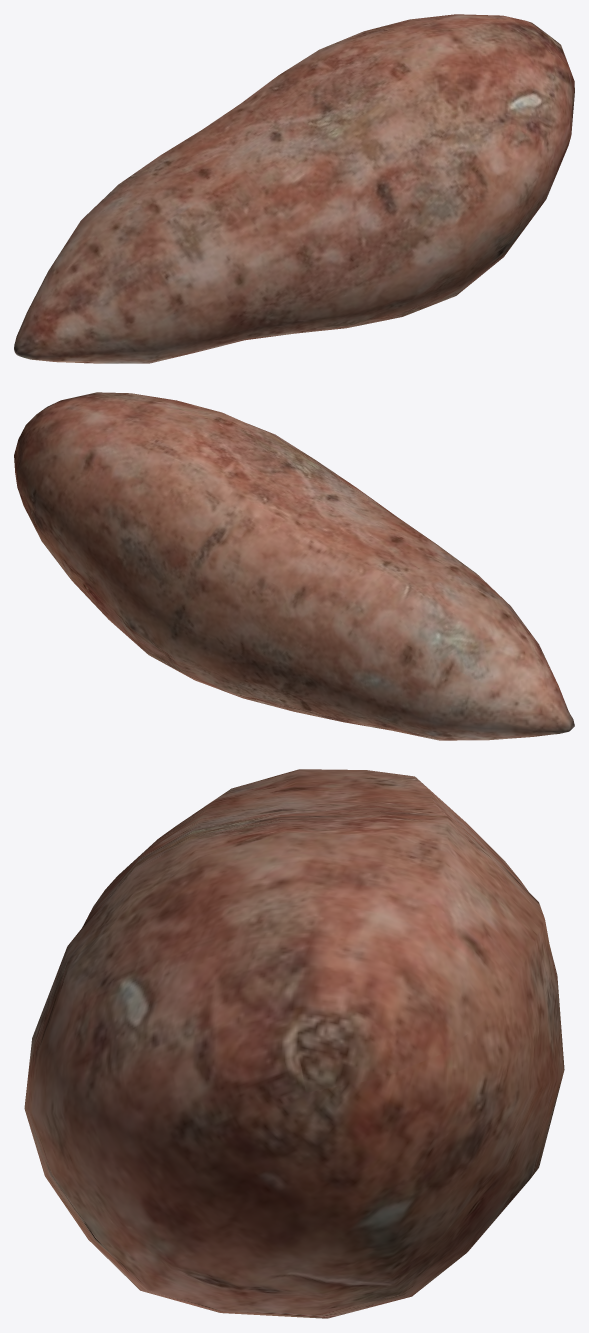
Rendered from A6_Yam_low.fbx.
3 views of the same model, one above another, from view 1: azimuth 30°, elevation 25°; view 2: azimuth 150°, elevation 25°; view 3: azimuth 270°, elevation 25° (orthographic). The views are drawn at different scales.
Visible parts, largest first — view 1: A6_Yam_low; view 2: A6_Yam_low; view 3: A6_Yam_low.
Part boxes in pixels (x1,y1,x2,y2): A6_Yam_low: [14, 14, 574, 363]; A6_Yam_low: [14, 392, 574, 740]; A6_Yam_low: [24, 769, 564, 1318].
Size of the model in its own units: 19.6 by 8.36 by 8.53.
1 material, 1 textured.
